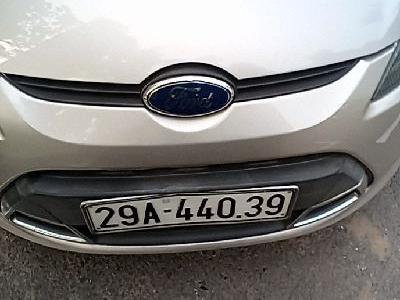car: (80, 186, 300, 235)
